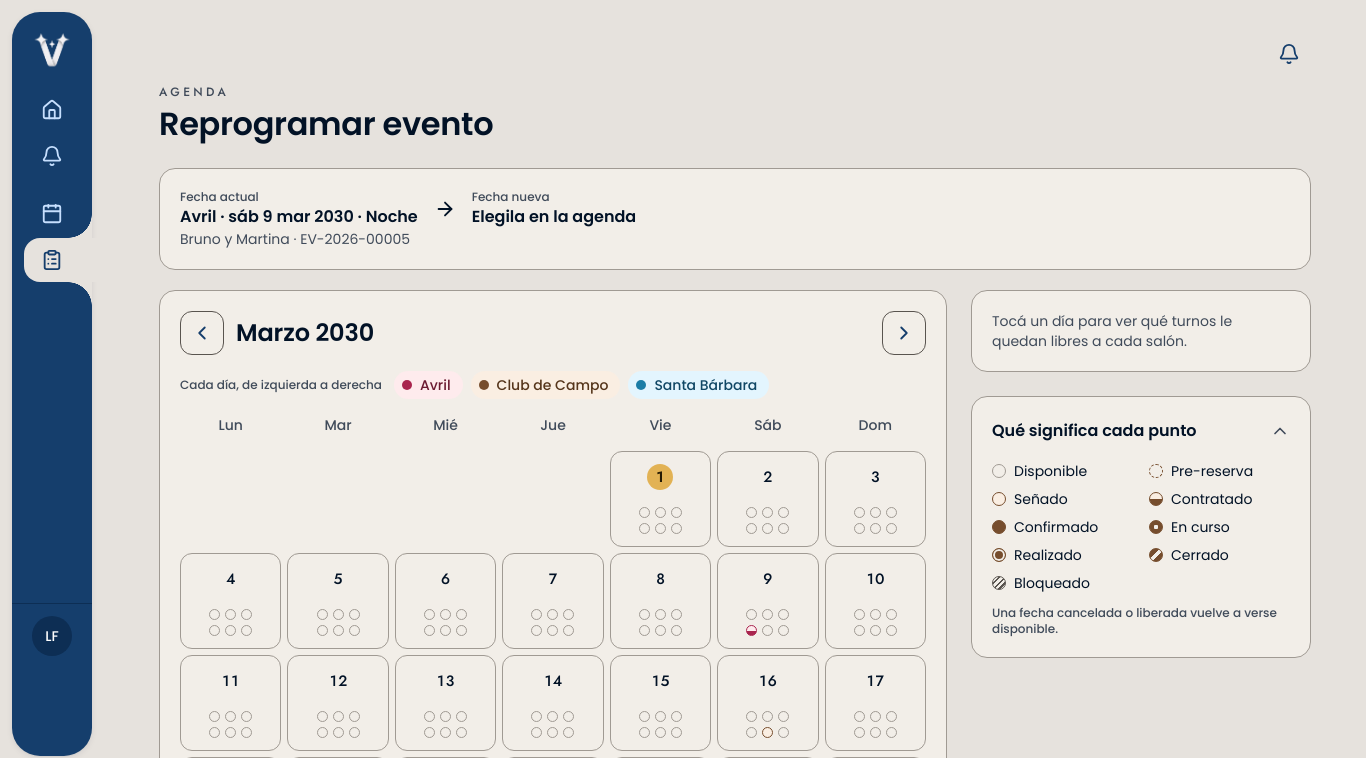
Test: UI-18 · reprogramar evento › la fecha actual no se puede elegir
Click the button named "sábado 9 de marzo" at coordinates (768, 601), box [717, 553, 818, 649]
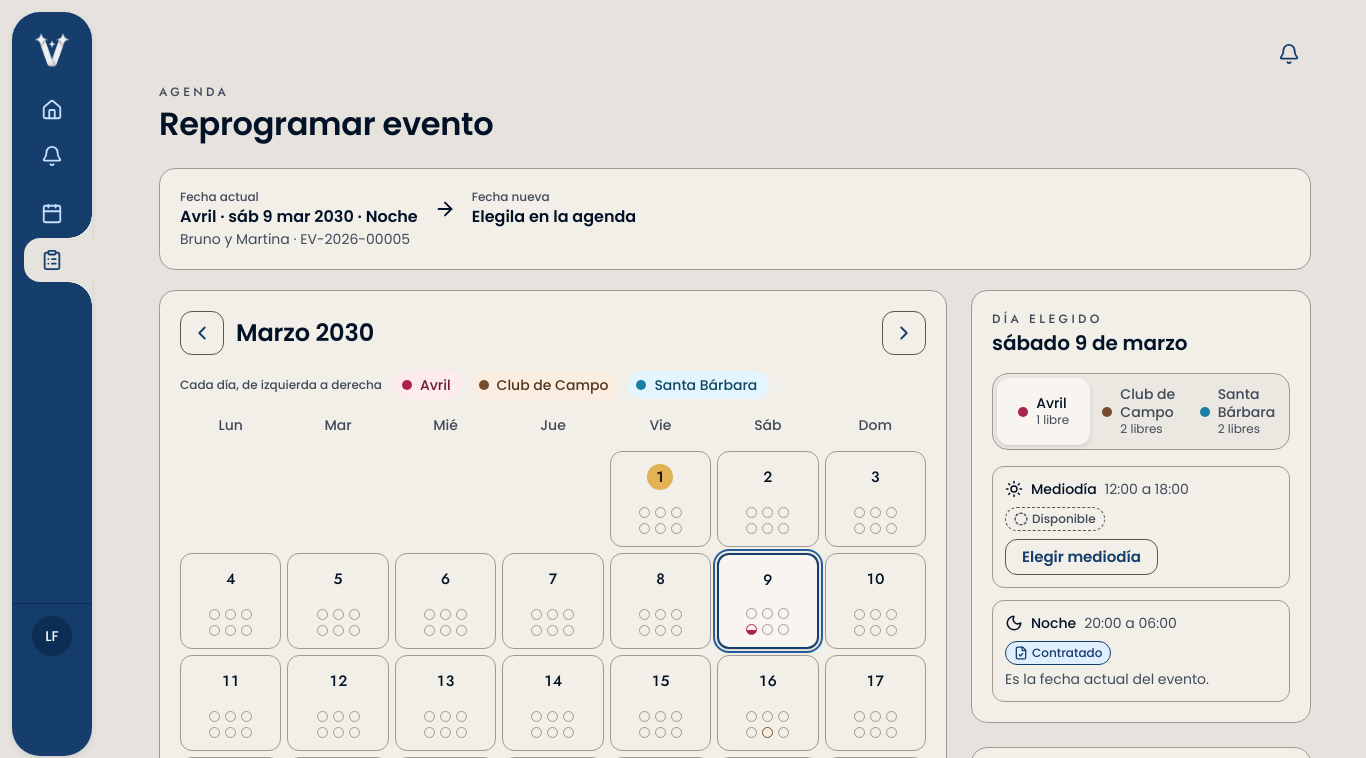
expect the text "Es la fecha actual del evento." is shown: met, box [1005, 669, 1209, 689]
